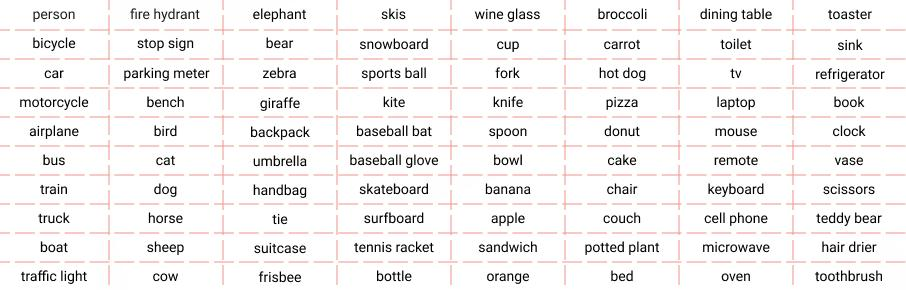airplane: (354, 121, 439, 139)
apple: (715, 270, 753, 283)
backpack: (597, 211, 648, 226)
banana: (484, 268, 536, 286)
baseball bat: (257, 92, 315, 114)
baseball glove: (815, 239, 885, 256)
bear: (701, 210, 774, 229)
bed: (374, 6, 418, 23)
bench: (374, 269, 416, 283)
bicycle: (490, 210, 528, 226)
bird: (486, 149, 531, 170)
boat: (146, 91, 189, 110)
book: (36, 180, 73, 196)
bottle: (703, 179, 774, 198)
bowl: (715, 125, 759, 138)
broccoli: (593, 95, 643, 111)
bus: (347, 150, 447, 169)
cake: (820, 182, 881, 197)
car: (247, 125, 316, 141)
carrot: (579, 237, 667, 255)
cat: (592, 4, 655, 22)
cell phone: (348, 237, 440, 257)
chair: (145, 240, 188, 255)
clock: (34, 209, 77, 226)
couch: (827, 35, 874, 53)
cow: (599, 35, 649, 53)
cup: (490, 93, 527, 108)
dining table: (353, 35, 435, 53)
dog: (36, 151, 71, 168)
donut: (477, 239, 543, 255)
elephant: (147, 150, 182, 164)
fire hydrant: (147, 119, 185, 139)
fork: (712, 93, 761, 112)
frisbee: (597, 121, 645, 141)
giraffe: (826, 123, 872, 139)
hair drier: (470, 5, 551, 24)
handbag: (488, 36, 529, 51)
horse: (603, 153, 642, 166)
hot dog: (809, 63, 887, 83)
keyboard: (805, 207, 889, 228)
kite: (251, 270, 311, 285)
knife: (700, 239, 774, 256)
laptop: (126, 33, 205, 52)
microwave: (265, 211, 294, 228)
motorcycle: (481, 179, 540, 197)
mouse: (249, 240, 312, 257)
orange: (25, 5, 85, 23)
oven: (819, 5, 879, 23)
parking meter: (828, 93, 869, 110)
person: (25, 120, 83, 138)
pizza: (705, 151, 762, 167)
potted plant: (353, 182, 437, 197)
refrigerator: (19, 267, 92, 285)
remote: (357, 210, 432, 227)
sandwich: (119, 63, 217, 84)
scissors: (249, 153, 311, 171)
sheep: (33, 63, 68, 80)
sink: (811, 269, 884, 282)
skateboard: (246, 183, 311, 197)
skis: (251, 3, 311, 23)
snowboard: (124, 7, 203, 23)
spoon: (12, 95, 92, 109)
sports ball: (488, 60, 524, 78)
stop sign: (37, 239, 73, 255)
suitcase: (145, 181, 188, 199)
surfboard: (142, 210, 189, 225)
teddy bear: (829, 154, 871, 168)
tennis racket: (598, 63, 651, 79)
tie: (699, 1, 775, 24)
toaster: (715, 35, 757, 52)
toilet: (479, 123, 535, 141)
toothbrush: (253, 66, 301, 81)
traffic light: (21, 33, 87, 53)
train: (249, 35, 305, 51)
truck: (606, 267, 638, 284)
tv: (353, 64, 433, 80)
umbrella: (148, 265, 183, 285)
vase: (723, 66, 746, 78)
wine glass: (377, 93, 413, 113)
zebra: (595, 182, 642, 196)
